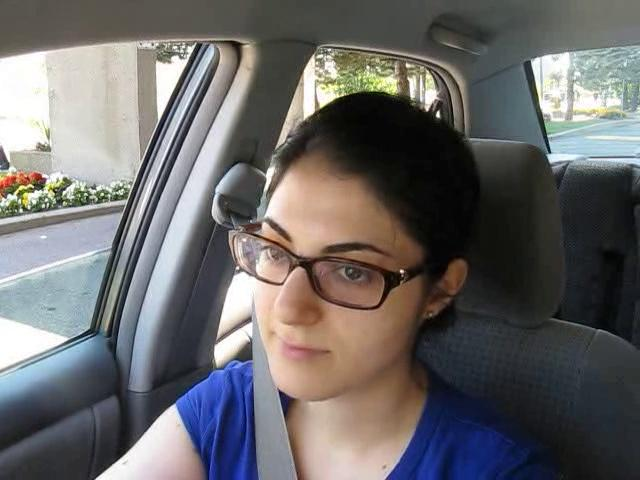no_yawn: (255, 328, 341, 371)
open_eyeL: (244, 234, 301, 281)
open_eyeR: (316, 251, 389, 300)
